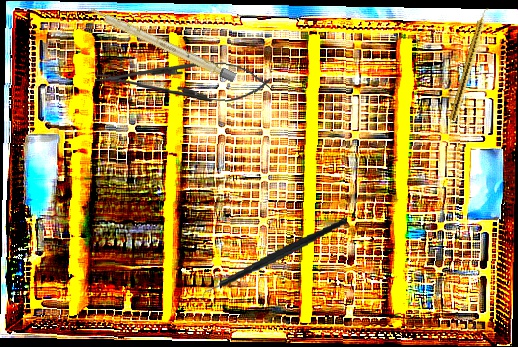Chopper: (189, 216, 355, 308)
Handpiece: (448, 5, 492, 123)
Needle Holder: (94, 55, 271, 105)
Scalpel Handle: (86, 5, 237, 83)
